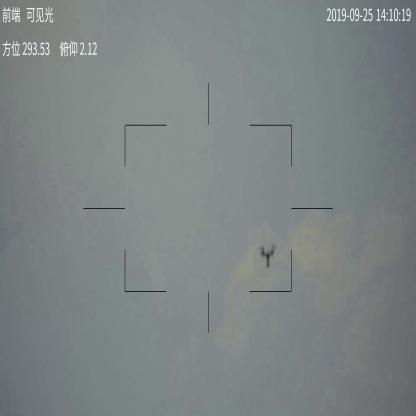uav: (259, 242, 277, 270)
